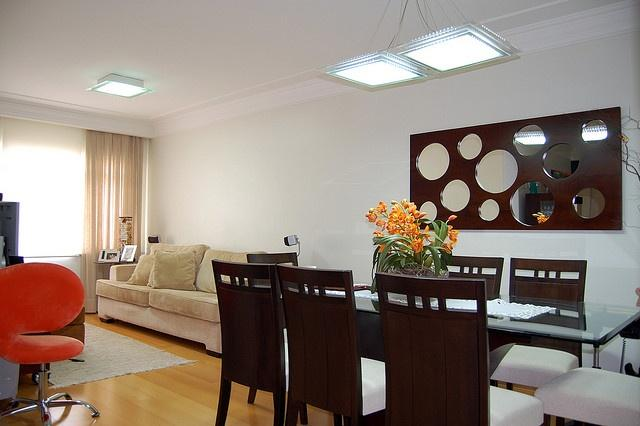Kursi: (374, 270, 544, 425), (275, 263, 385, 425)
